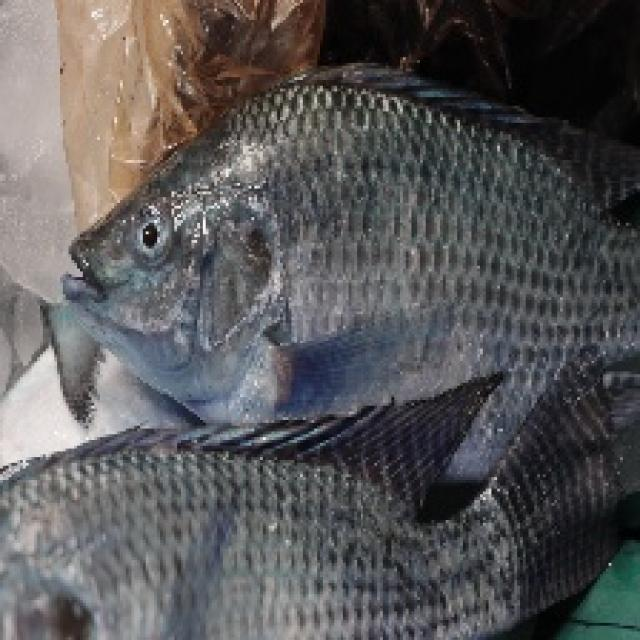Fresh: (44, 81, 640, 460)
